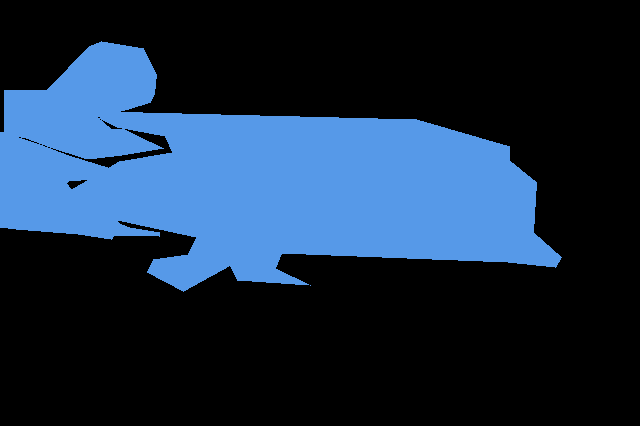Airplane: (73, 111, 561, 292), (4, 41, 163, 159), (0, 132, 159, 240)
